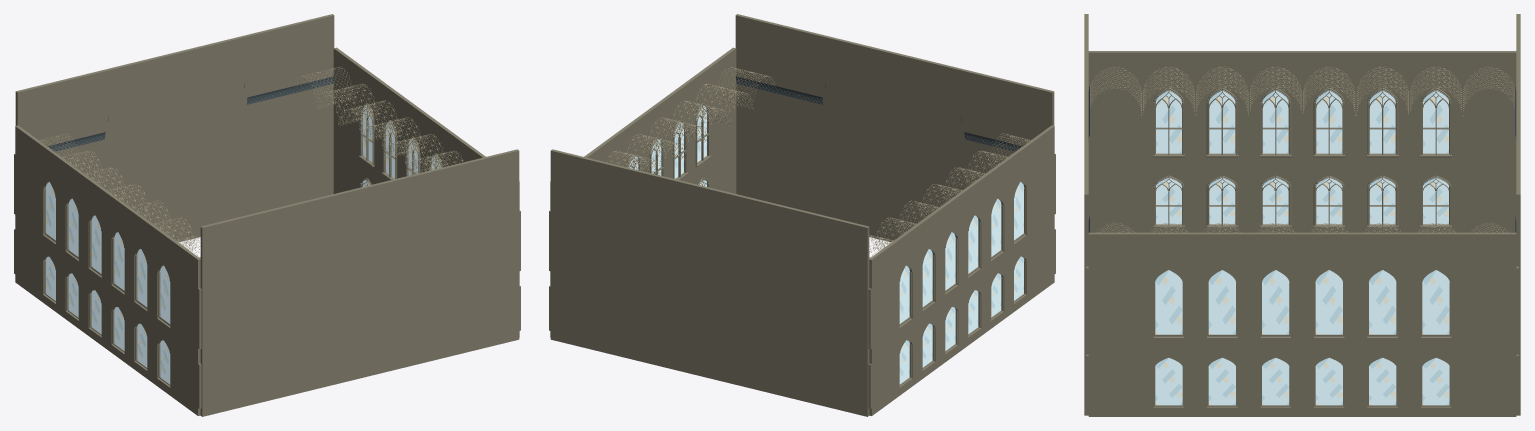
Rendered from core-enclosure.glb.
3 renders of one model, left to right at view 1: azimuth 30°, elevation 25°; view 2: azimuth 150°, elevation 25°; view 3: azimuth 270°, elevation 25°, orthographic. The views are drawn at different scales.
Visible parts, largest first — view 1: core-enclosure; view 2: core-enclosure; view 3: core-enclosure.
Boxes of the visible parts, <box> form: core-enclosure: <box>14,14,520,416</box>; core-enclosure: <box>549,14,1055,416</box>; core-enclosure: <box>1084,14,1520,416</box>.
Size of the model in its own units: 40.6 by 22.8 by 40.8.
